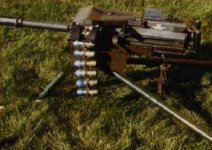rifle: (1, 3, 198, 113)
